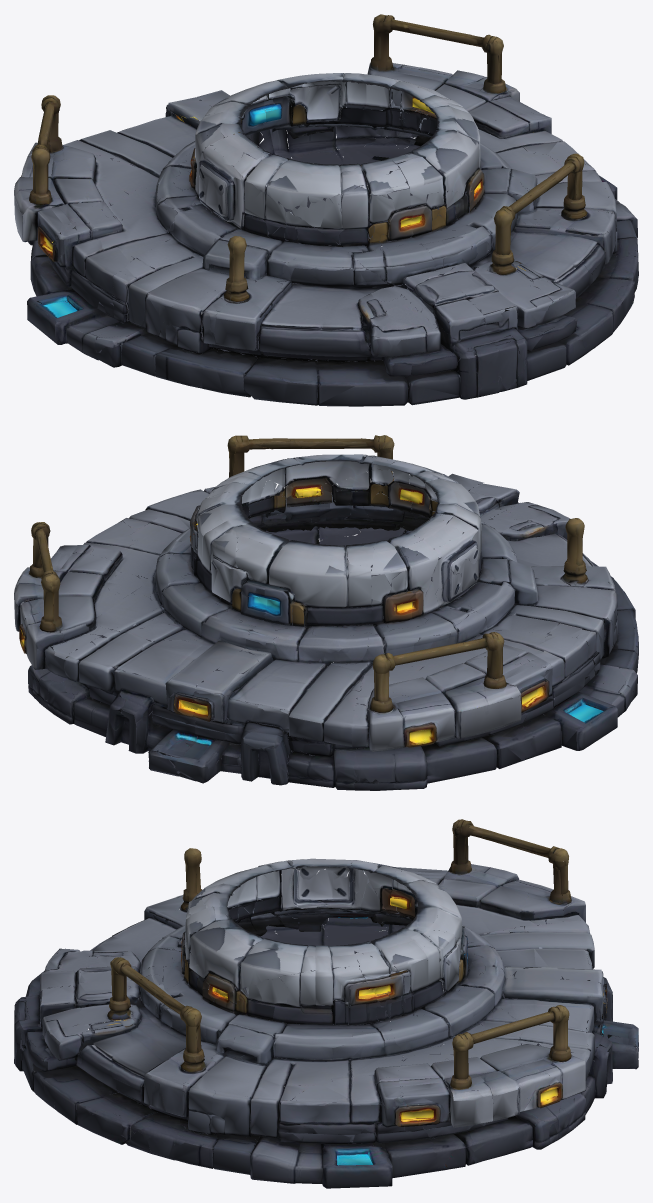
The model's file is turret_base.glb.
3 renders of one model, top to bottom at view 1: azimuth 30°, elevation 25°; view 2: azimuth 150°, elevation 25°; view 3: azimuth 270°, elevation 25°, orthographic. The views are drawn at different scales.
Visible parts, largest first — view 1: tripo_part_38.001, tripo_part_0.001, tripo_part_13.001, tripo_part_55.001, tripo_part_1.001, tripo_part_37.001, tripo_part_17.001, tripo_part_9.001, tripo_part_42.001, tripo_part_10.001, tripo_part_52.001, tripo_part_16.001 (+45 smaller); view 2: tripo_part_18.001, tripo_part_6.001, tripo_part_10.001, tripo_part_14.001, tripo_part_38.001, tripo_part_9.001, tripo_part_55.001, tripo_part_33.001, tripo_part_15.001, tripo_part_41.001, tripo_part_64.001, tripo_part_16.001 (+46 smaller); view 3: tripo_part_0.001, tripo_part_33.001, tripo_part_39.001, tripo_part_1.001, tripo_part_41.001, tripo_part_38.001, tripo_part_18.001, tripo_part_15.001, tripo_part_32.001, tripo_part_29.001, tripo_part_37.001, tripo_part_23.001 (+37 smaller).
Boxes of the visible parts, bbox=[...] form: tripo_part_38.001: bbox=[195, 124, 369, 246]; tripo_part_0.001: bbox=[287, 126, 638, 399]; tripo_part_13.001: bbox=[258, 283, 399, 360]; tripo_part_55.001: bbox=[84, 196, 236, 304]; tripo_part_1.001: bbox=[470, 208, 615, 298]; tripo_part_37.001: bbox=[453, 301, 613, 399]; tripo_part_17.001: bbox=[328, 286, 457, 376]; tripo_part_9.001: bbox=[48, 140, 168, 287]; tripo_part_42.001: bbox=[398, 263, 518, 352]; tripo_part_10.001: bbox=[14, 142, 122, 267]; tripo_part_52.001: bbox=[367, 215, 492, 286]; tripo_part_16.001: bbox=[27, 253, 230, 367]; tripo_part_18.001: bbox=[117, 608, 385, 711]; tripo_part_6.001: bbox=[258, 715, 561, 790]; tripo_part_10.001: bbox=[367, 644, 552, 751]; tripo_part_14.001: bbox=[105, 572, 558, 783]; tripo_part_38.001: bbox=[388, 471, 481, 615]; tripo_part_9.001: bbox=[287, 634, 564, 756]; tripo_part_55.001: bbox=[433, 581, 596, 677]; tripo_part_33.001: bbox=[14, 545, 122, 675]; tripo_part_15.001: bbox=[366, 632, 506, 716]; tripo_part_41.001: bbox=[242, 454, 381, 518]; tripo_part_64.001: bbox=[222, 661, 372, 741]; tripo_part_16.001: bbox=[367, 664, 637, 750]; tripo_part_0.001: bbox=[19, 1031, 595, 1188]; tripo_part_33.001: bbox=[374, 1055, 585, 1127]; tripo_part_39.001: bbox=[250, 1057, 381, 1143]; tripo_part_1.001: bbox=[76, 1006, 214, 1121]; tripo_part_41.001: bbox=[185, 919, 332, 1024]; tripo_part_38.001: bbox=[191, 858, 392, 922]; tripo_part_18.001: bbox=[458, 924, 591, 1040]; tripo_part_15.001: bbox=[438, 819, 571, 920]; tripo_part_32.001: bbox=[331, 951, 494, 1037]; tripo_part_29.001: bbox=[188, 1055, 266, 1136]; tripo_part_37.001: bbox=[14, 995, 118, 1124]; tripo_part_23.001: bbox=[329, 941, 410, 1004].
Bounding box in the file's own units: 2.92 × 0.7738 × 2.9.
Materials: 73 (73 with a texture image).
